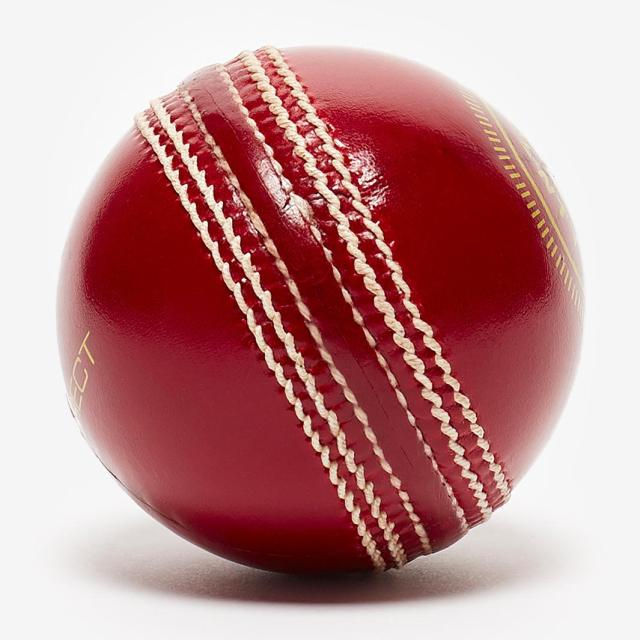ball: (55, 42, 584, 582)
